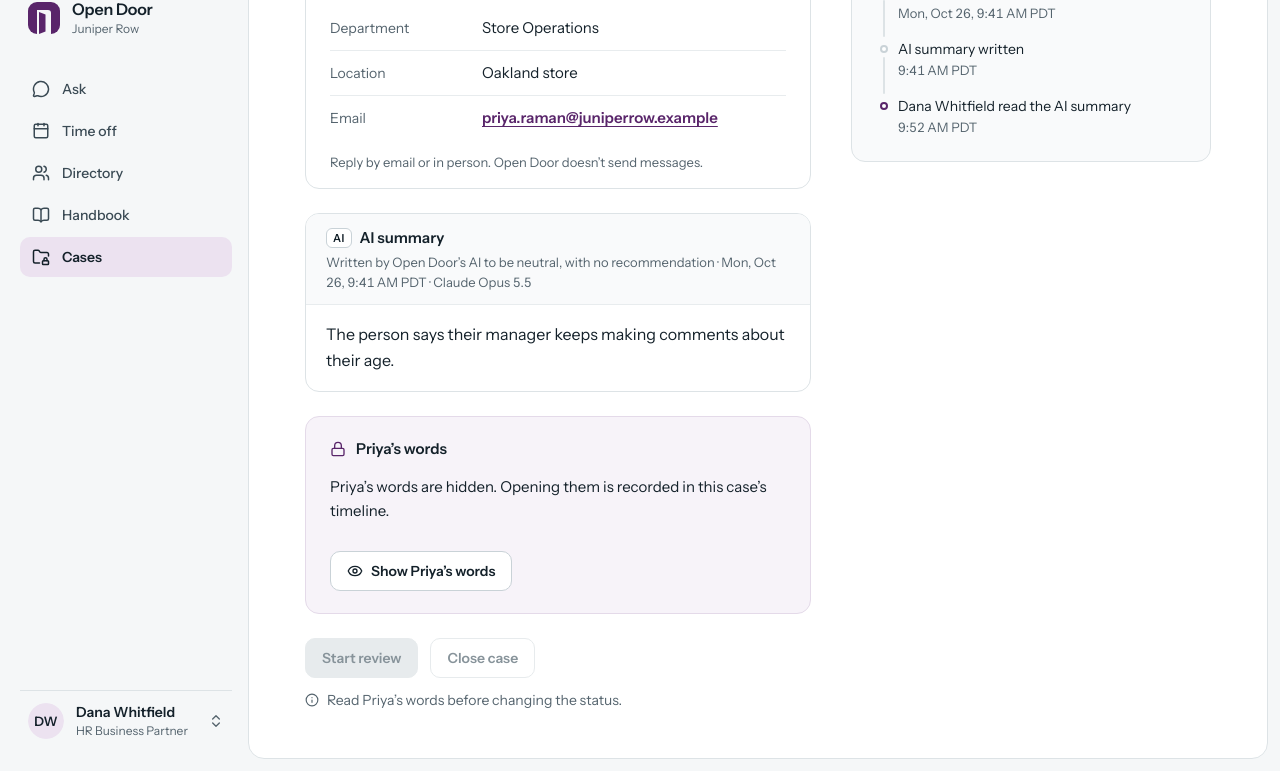
Test case: the detail: the page › never puts the summary or the words in the query cache
(page scrolled)
Expected: the text "The person says their manager keeps making comments about their age." is shown, 326,321 -> 790,373
What coordinates should you click on to do the following:
click the button "Show Priya’s words"
I would click on:
 (421, 571)
Its box is 330,551 -> 512,591.
(page scrolled)
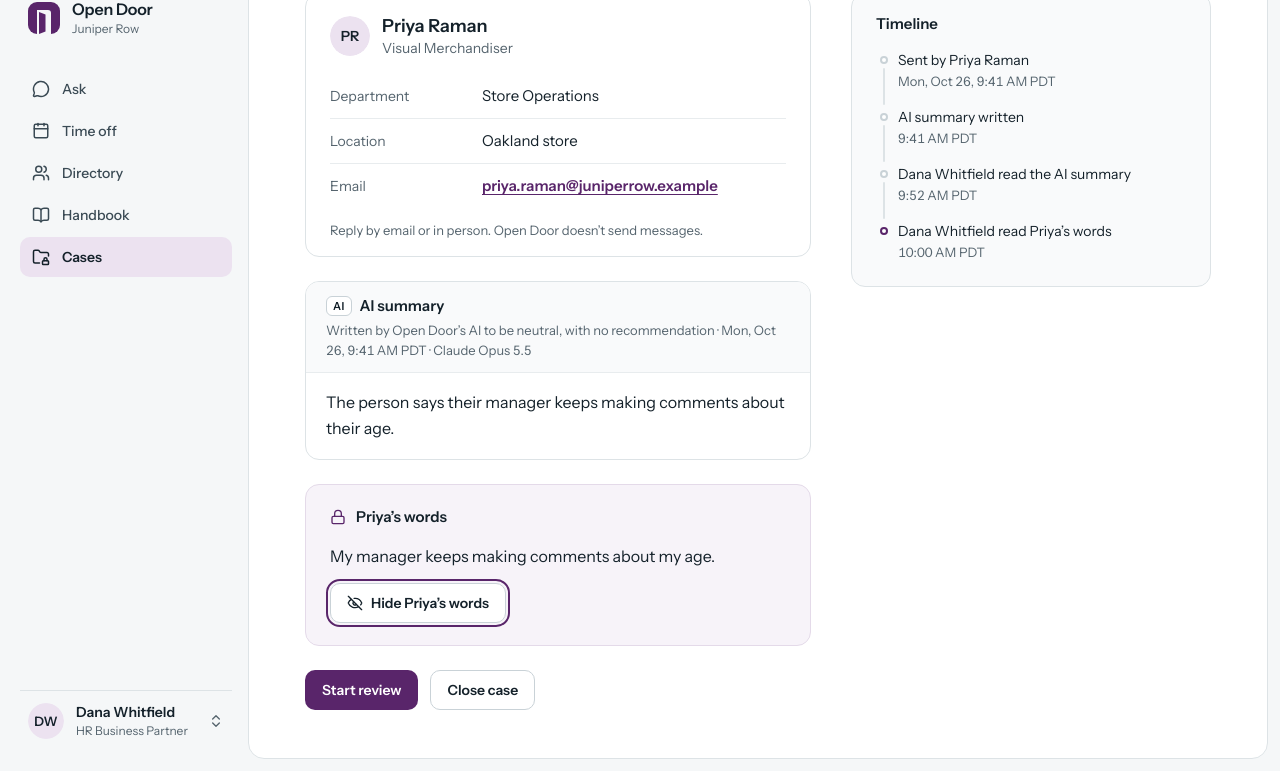
Now the text "My manager keeps making comments about my age." is shown, box 330,546 -> 715,566
